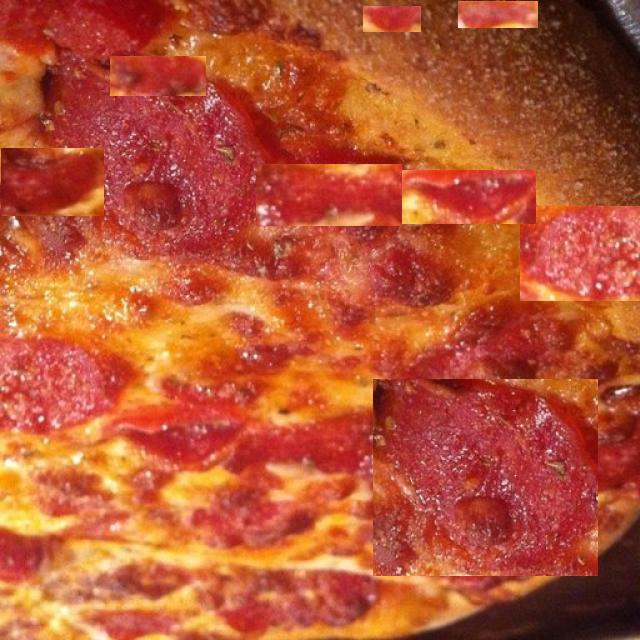pepperoni: (373, 379, 598, 576), (520, 206, 640, 301), (256, 164, 402, 226), (396, 170, 536, 224), (1, 148, 104, 216), (110, 56, 206, 96), (458, 1, 538, 28), (363, 6, 421, 32)
pizza: (0, 0, 640, 640)
